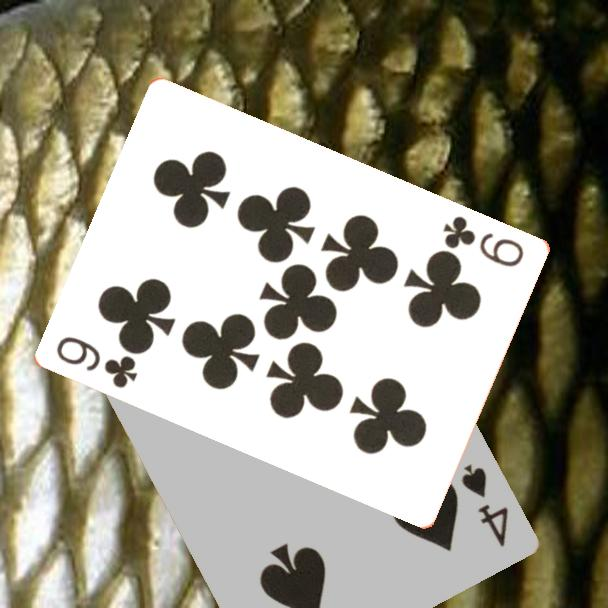c09: (53, 332, 141, 392), (439, 212, 527, 270)
s04: (456, 460, 511, 550)
